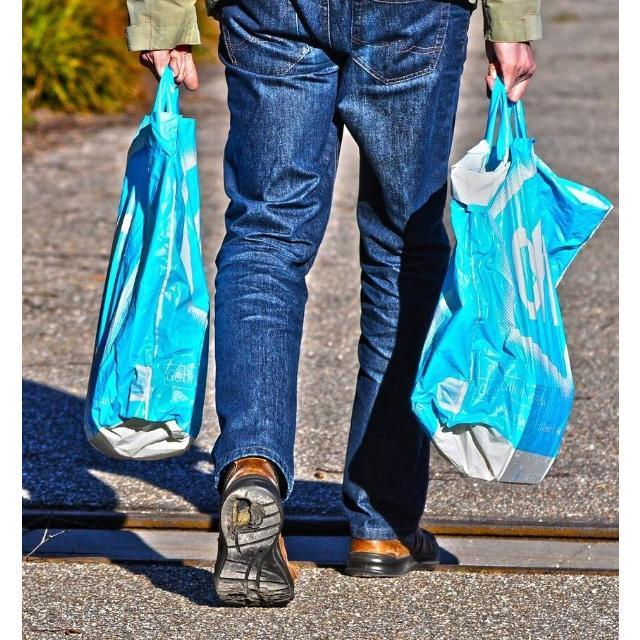plastic: (411, 75, 613, 484), (85, 68, 209, 460)
